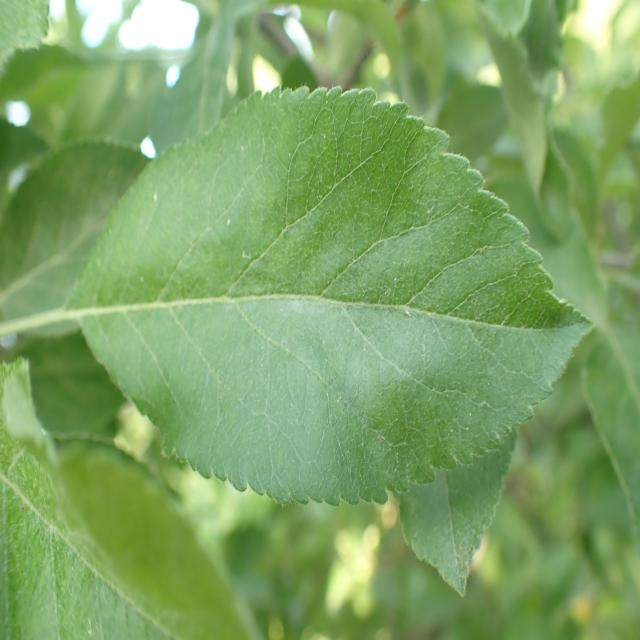healthy: (64, 82, 596, 508), (0, 356, 259, 639), (0, 136, 151, 338), (396, 423, 518, 598)
